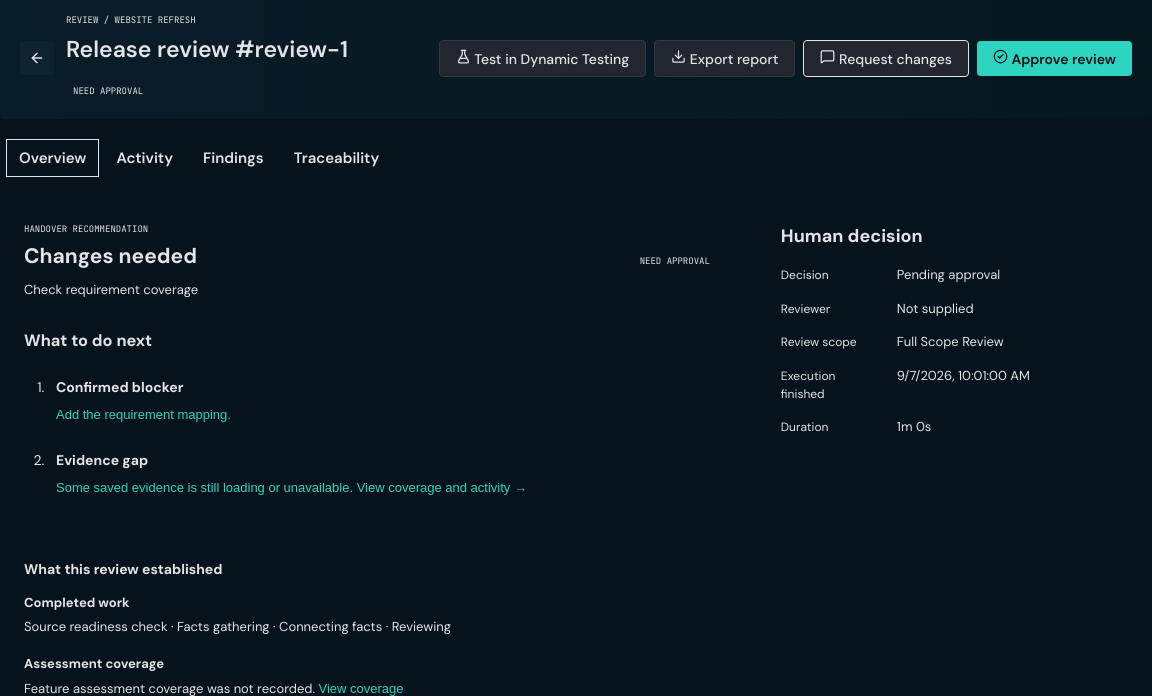
ReviewActivityScreen › keeps finding explanations available when execution history is unavailable
Expected: the heading "Changes needed" is shown, left=24, top=240, right=198, bottom=272
Click the tab "Activity": [145, 158] box left=103, top=139, right=186, bottom=177
(page scrolled)
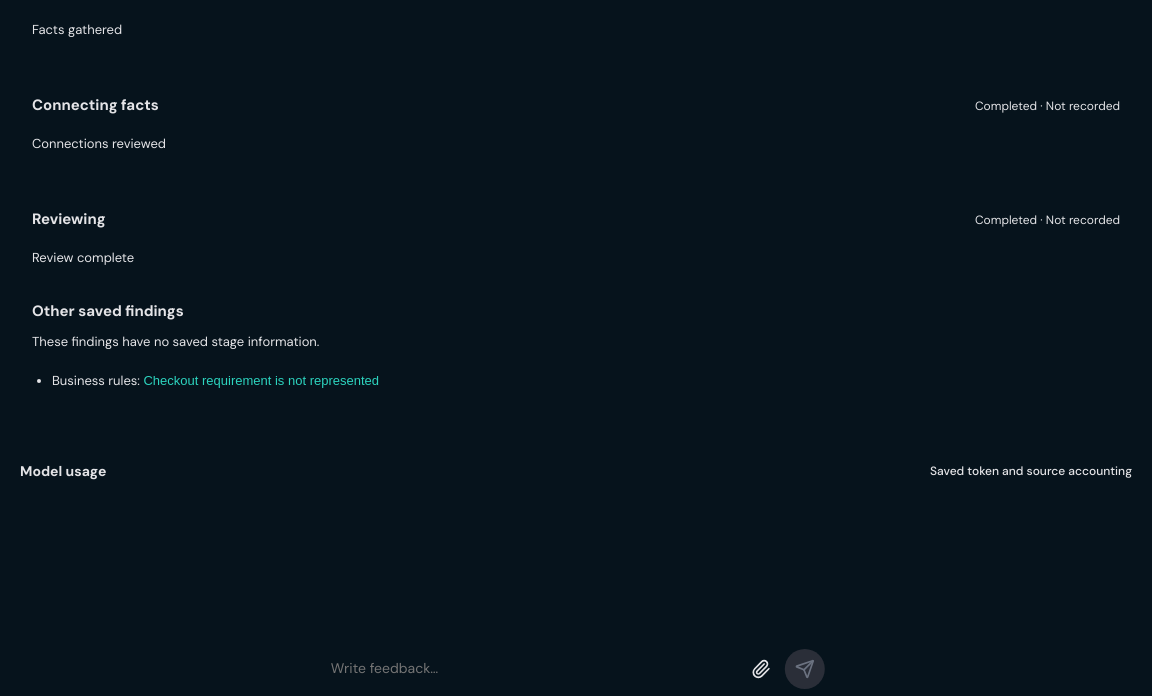
Click the button "Checkout requirement is not represented": [261, 381] box left=144, top=370, right=379, bottom=392
(page scrolled)
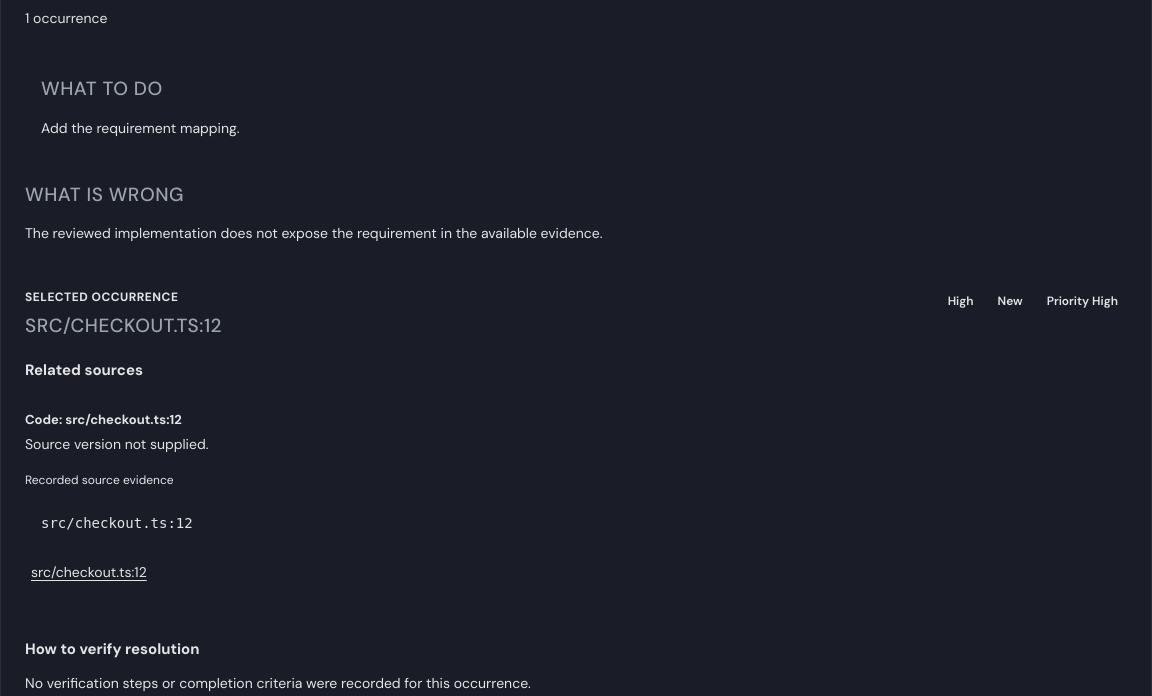
Expected: the element named "Finding details" shows "The reviewed implementation does not expose the requirement in the available evidence.", left=25, top=224, right=602, bottom=242
